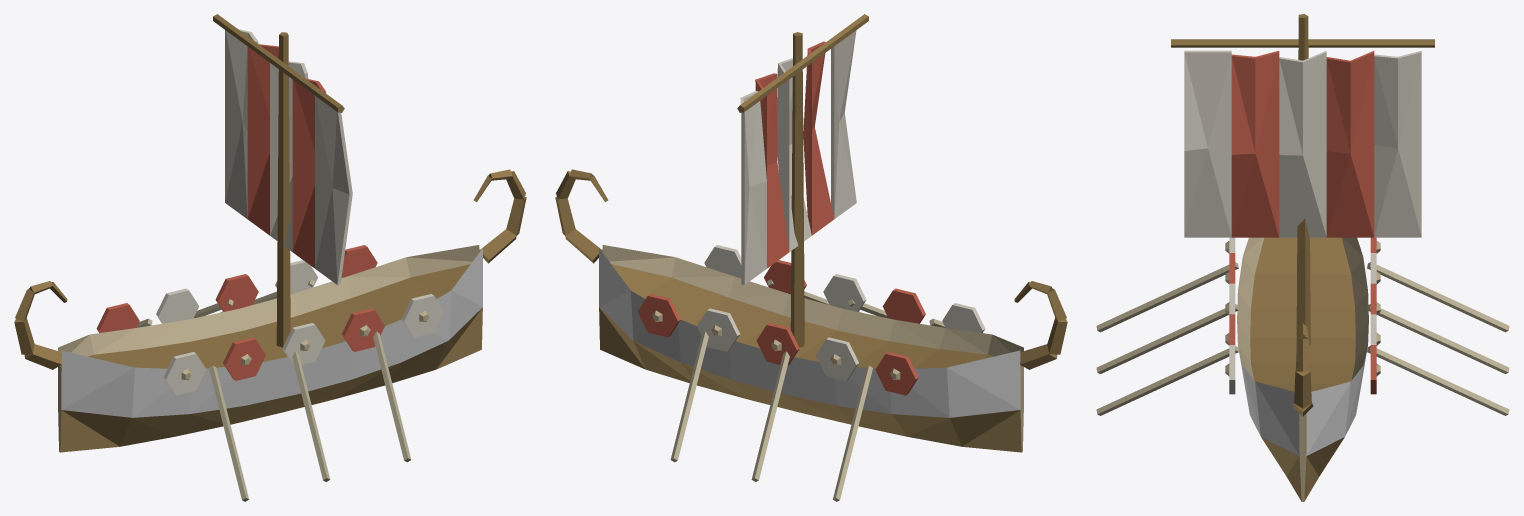
File: longboat.atoll.glb
3 renders of one model, left to right at view 1: azimuth 30°, elevation 25°; view 2: azimuth 150°, elevation 25°; view 3: azimuth 270°, elevation 25°, orthographic. The views are drawn at different scales.
Visible parts, largest first — view 1: trim, sail, hull, mast; view 2: trim, sail, hull, mast; view 3: sail, trim, hull, mast.
Boxes of the visible parts, x1=… form: trim: x1=14, y1=169, x2=526, y2=501; sail: x1=225, y1=29, x2=352, y2=284; hull: x1=61, y1=248, x2=482, y2=417; mast: x1=213, y1=14, x2=344, y2=347; trim: x1=555, y1=169, x2=1067, y2=501; sail: x1=740, y1=30, x2=856, y2=284; hull: x1=599, y1=248, x2=1020, y2=417; mast: x1=737, y1=14, x2=868, y2=347; sail: x1=1184, y1=50, x2=1421, y2=237; trim: x1=1096, y1=237, x2=1509, y2=501; hull: x1=1238, y1=348, x2=1367, y2=455; mast: x1=1171, y1=14, x2=1434, y2=344.
Bounding box in the file's own units: 1.9 × 1.3 × 1.25.
